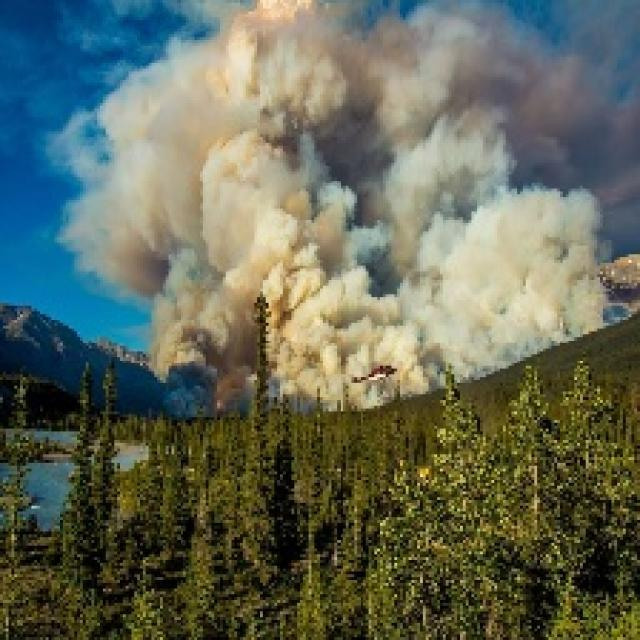Smoke: (68, 0, 604, 408)
